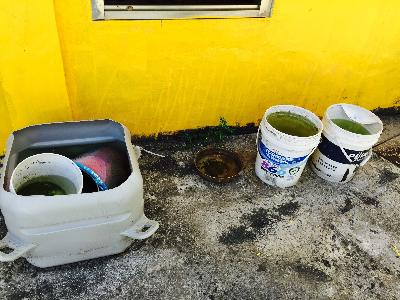bowl: (193, 146, 246, 185)
box: (1, 119, 158, 269)
bucket: (309, 102, 382, 184), (254, 104, 322, 186)
